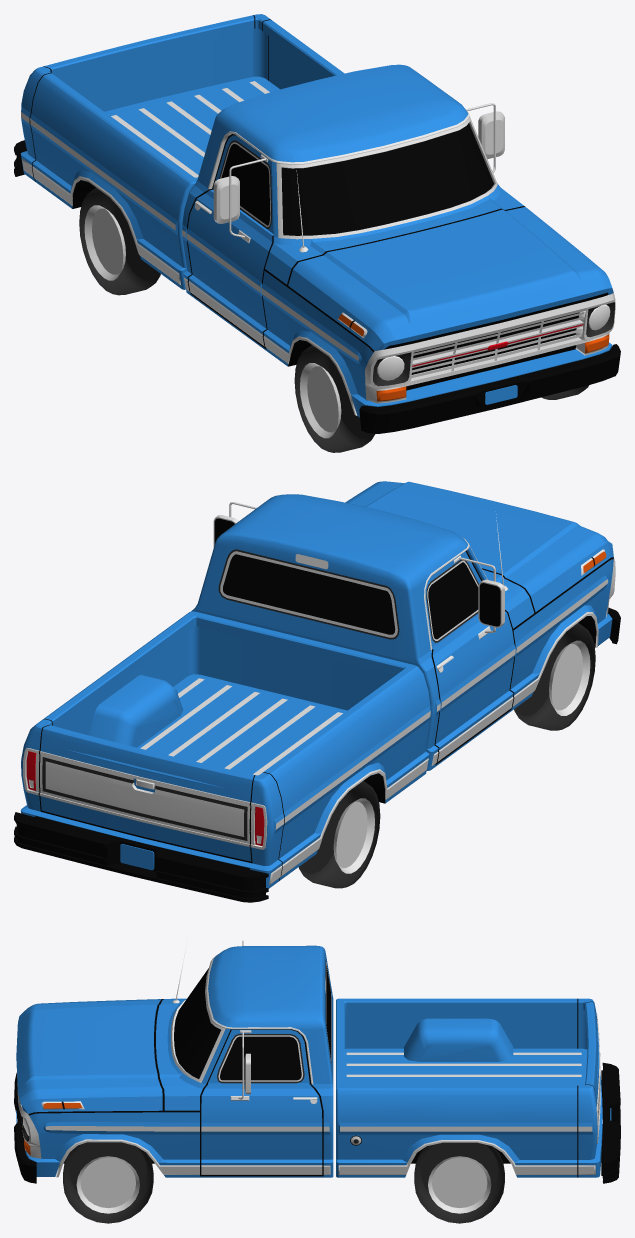
The model's file is Old Pickup.fbx.
The picture shows the model from 3 angles, top to bottom: view 1: azimuth 30°, elevation 25°; view 2: azimuth 150°, elevation 25°; view 3: azimuth 270°, elevation 25°; orthographic projection. The views are drawn at different scales.
Parts seen in each view (by area): view 1: body, bump, RR, FR; view 2: body, bump, RR, FR; view 3: body, RL, FL, bump.
Boxes of the visible parts, x1,y1,x2,y2 form: body: [20, 14, 615, 417]; bump: [14, 140, 620, 433]; RR: [79, 187, 160, 295]; FR: [294, 345, 375, 452]; body: [20, 481, 615, 888]; bump: [14, 608, 620, 902]; RR: [298, 781, 380, 888]; FR: [514, 623, 595, 730]; body: [16, 940, 602, 1177]; RL: [414, 1142, 504, 1223]; FL: [63, 1142, 153, 1223]; bump: [14, 1062, 620, 1183].
Size of the model in its own units: 207 by 173 by 464.
